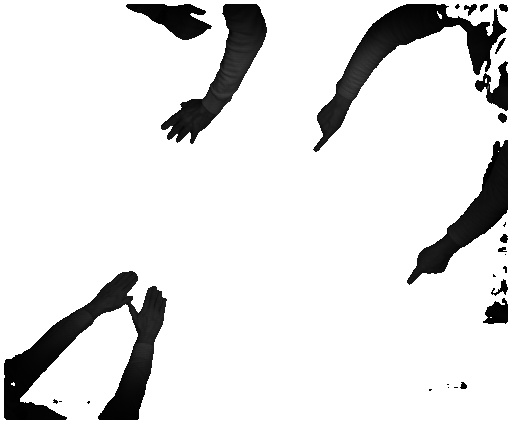hand: (90, 264, 140, 312), (400, 241, 452, 287), (160, 100, 212, 143), (129, 287, 167, 343), (312, 99, 348, 151), (165, 4, 215, 39)
